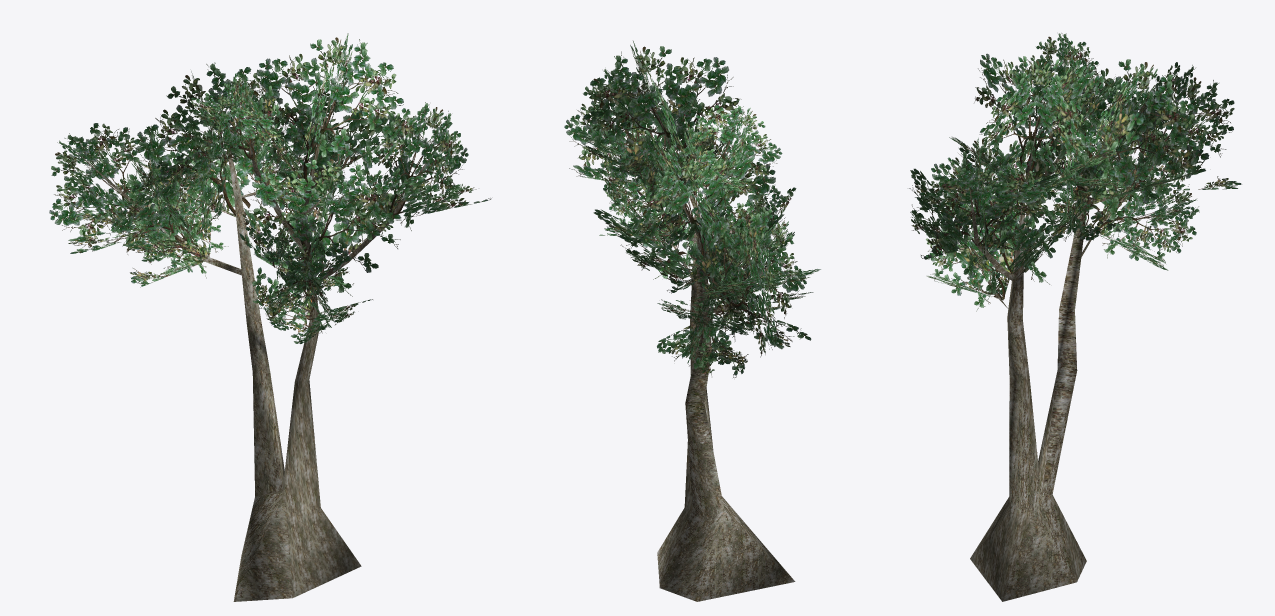
File: decd_hollytreeleaves_l1.fbx
3 renders of one model, left to right at view 1: azimuth 30°, elevation 25°; view 2: azimuth 150°, elevation 25°; view 3: azimuth 270°, elevation 25°, orthographic. The views are drawn at different scales.
Parts seen in each view (by area): view 1: mesh_node; view 2: mesh_node; view 3: mesh_node.
Part boxes in pixels (x1=…): mesh_node: x1=49, y1=33, x2=491, y2=601; mesh_node: x1=564, y1=41, x2=820, y2=601; mesh_node: x1=909, y1=33, x2=1241, y2=601.
Bounding box in the file's own units: 13.1 × 18.47 × 11.57.
